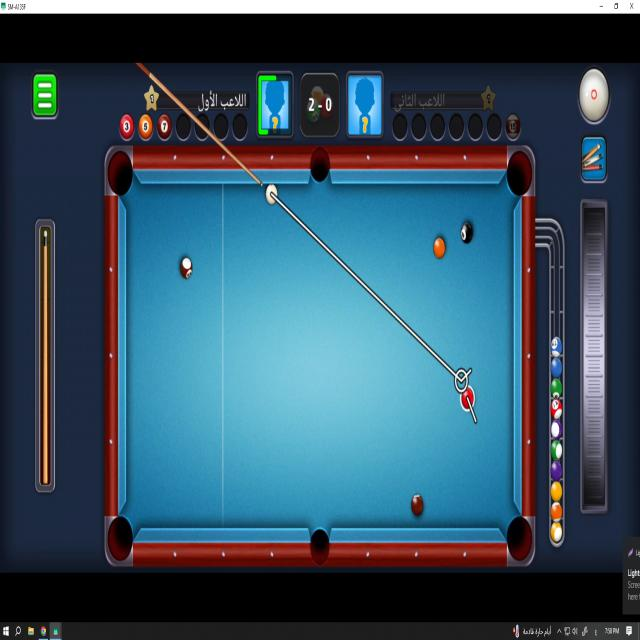object_ball: (461, 387, 475, 410), (181, 258, 192, 279), (412, 495, 423, 515), (461, 223, 472, 243), (434, 238, 444, 258)
white_cue_ball: (266, 185, 277, 205)
